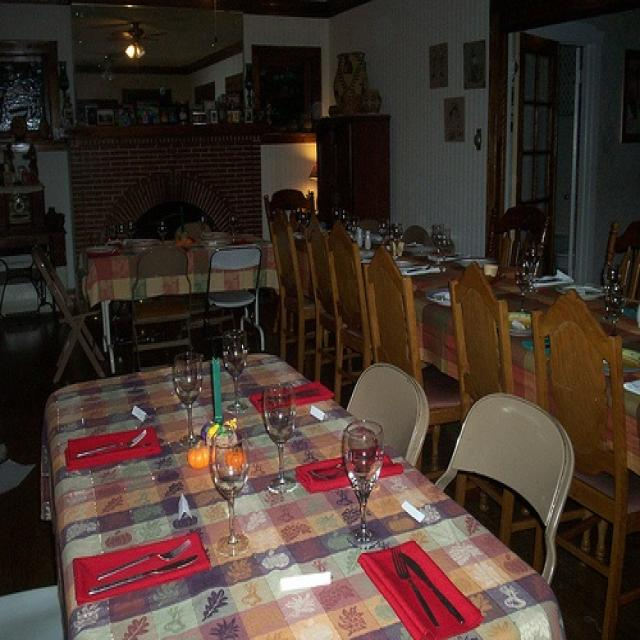chair: (528, 290, 638, 637), (443, 259, 544, 562), (434, 391, 576, 585), (360, 240, 457, 472), (29, 242, 108, 379), (324, 222, 372, 411), (346, 362, 428, 469), (125, 244, 192, 367), (264, 213, 312, 379), (204, 241, 268, 353), (302, 215, 342, 391), (486, 203, 553, 268), (600, 212, 639, 312), (261, 183, 318, 227)
diningtable: (41, 350, 568, 638), (78, 216, 639, 484)
